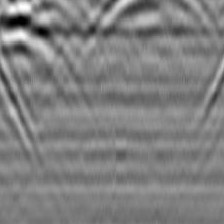Utility: (93, 0, 224, 48), (0, 2, 86, 54)
